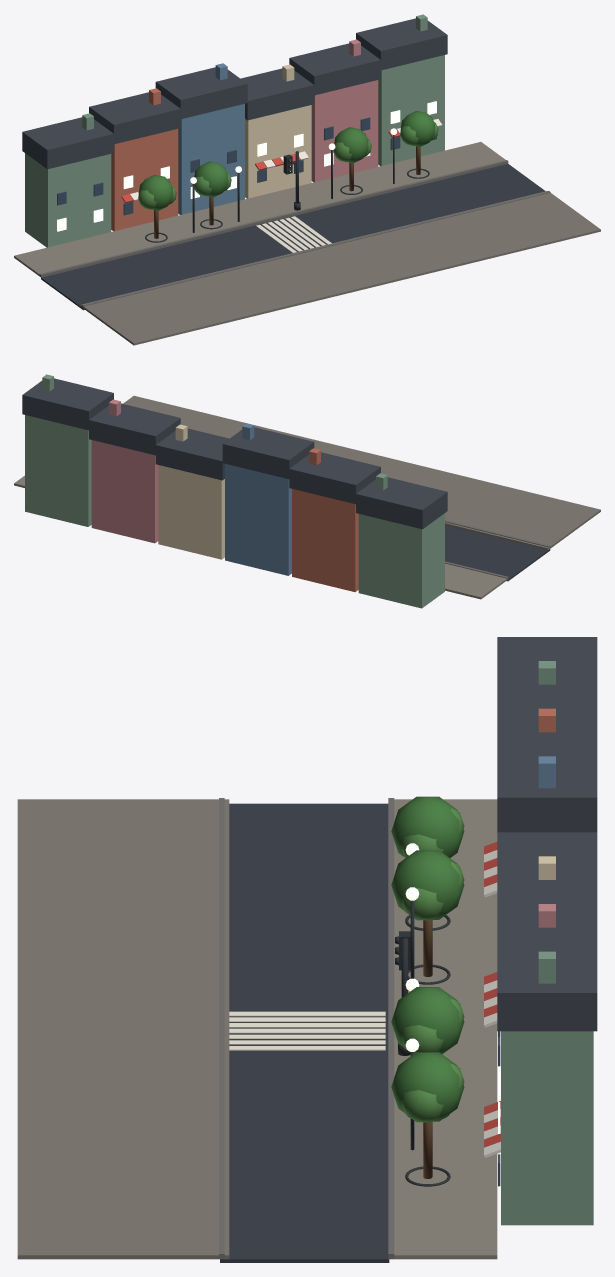
Rendered from traffic_street.glb.
The picture shows the model from 3 angles, top to bottom: view 1: azimuth 30°, elevation 25°; view 2: azimuth 150°, elevation 25°; view 3: azimuth 270°, elevation 25°; orthographic projection. The views are drawn at different scales.
Parts seen in each view (by area): view 1: NearSidewalk, RoadSurface, FarSidewalk, Townhouse_0, Townhouse_2, Townhouse_5, Townhouse_4, Townhouse_1, Townhouse_3, Cube, Cube.018, Cube.036 (+9 smaller); view 2: NearSidewalk, Townhouse_0, Townhouse_2, Townhouse_5, Townhouse_4, Townhouse_1, Townhouse_3, Cube, RoadSurface, Cube.018, Cube.006, Cube.042 (+3 smaller); view 3: NearSidewalk, RoadSurface, FarSidewalk, Townhouse_5, Cube.042, Cube.018, Cube.006, Cube.024, Cube, Cube.036, FarCurb, Icosphere.016 (+9 smaller).
Part boxes in pixels (x1,y1,x2,y2): NearSidewalk: (81, 191, 600, 345); RoadSurface: (41, 164, 545, 310); FarSidewalk: (14, 142, 505, 276); Townhouse_0: (25, 153, 111, 247); Townhouse_2: (178, 103, 244, 214); Townhouse_5: (378, 55, 444, 166); Townhouse_4: (311, 80, 378, 182); Townhouse_1: (111, 129, 178, 231); Townhouse_3: (245, 105, 311, 198); Cube: (22, 117, 113, 169); Cube.018: (155, 67, 247, 119); Cube.036: (289, 43, 380, 95); NearSidewalk: (123, 395, 600, 550); Townhouse_0: (358, 513, 444, 608); Townhouse_2: (225, 463, 291, 575); Townhouse_5: (25, 415, 91, 526); Townhouse_4: (91, 440, 158, 543); Townhouse_1: (292, 489, 358, 591); Townhouse_3: (158, 465, 224, 559); Cube: (356, 477, 447, 529); RoadSurface: (445, 525, 550, 581); Cube.018: (222, 427, 314, 479); Cube.006: (289, 452, 380, 504); Cube.042: (22, 378, 113, 430); NearSidewalk: (17, 799, 229, 1259); RoadSurface: (220, 803, 389, 1262); FarSidewalk: (389, 799, 497, 1259); Townhouse_5: (501, 1031, 593, 1225); Cube.042: (497, 927, 597, 1031); Cube.018: (497, 732, 597, 832); Cube.006: (497, 684, 597, 732); Cube.024: (497, 832, 597, 879); Cube: (497, 637, 597, 684); Cube.036: (497, 880, 597, 927); FarCurb: (388, 798, 394, 1259); Icosphere.016: (391, 1052, 464, 1121).
Size of the model in its own units: 28 by 7.5 by 15.05.
